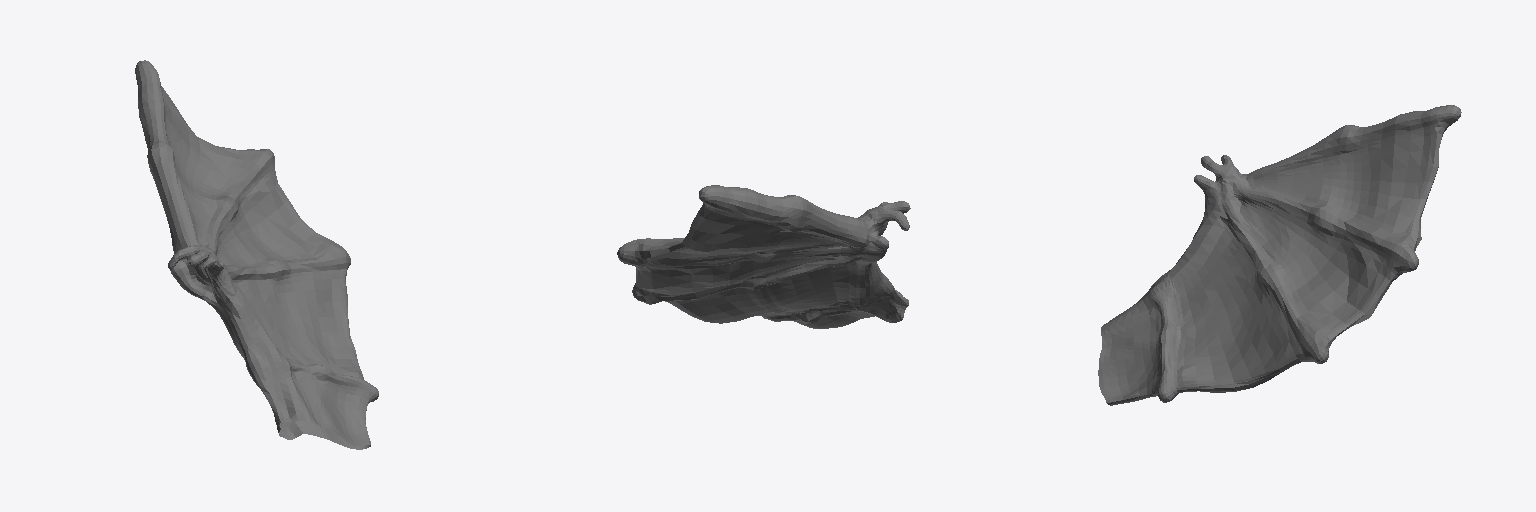
File: Ala_Derecha.obj
The picture shows the model from 3 angles: view 1: azimuth 30°, elevation 25°; view 2: azimuth 150°, elevation 25°; view 3: azimuth 270°, elevation 25°; orthographic projection.
Visible parts, largest first — view 1: Ala_Derecha; view 2: Ala_Derecha; view 3: Ala_Derecha.
Boxes of the visible parts, x1=… form: Ala_Derecha: x1=135, y1=60, x2=378, y2=449; Ala_Derecha: x1=617, y1=185, x2=910, y2=328; Ala_Derecha: x1=1098, y1=105, x2=1461, y2=405.
Size of the model in its own units: 6.31 by 7.26 by 8.67.